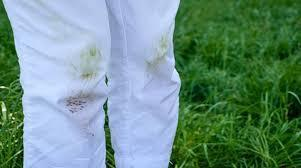earth: (148, 37, 167, 72), (77, 50, 100, 78), (65, 95, 88, 114)
